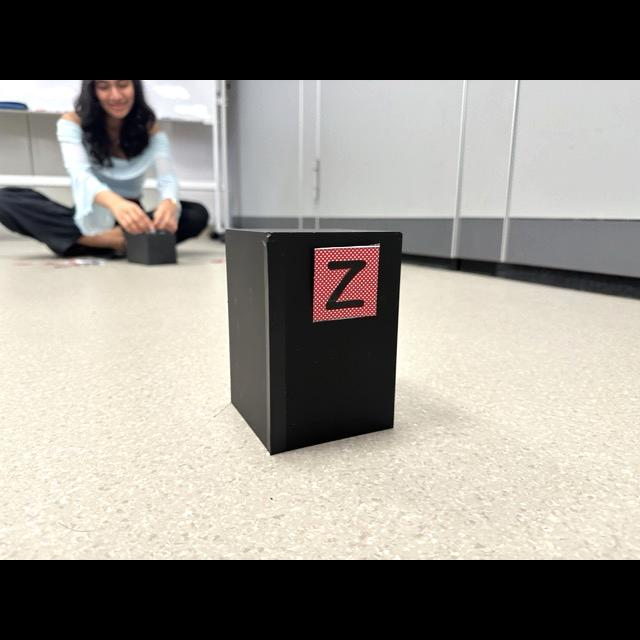Z: (327, 261, 366, 310)
